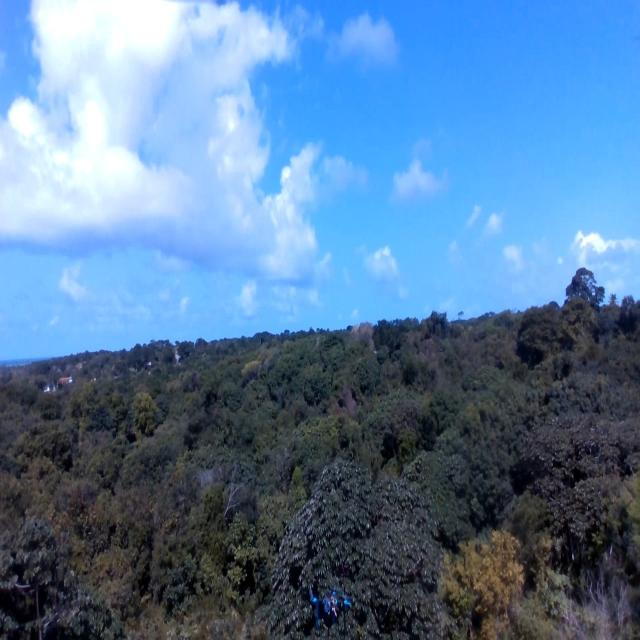-uav-: (300, 570, 356, 635)
